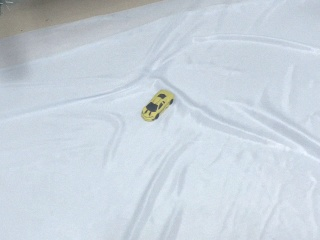toy_car: (141, 89, 174, 121)
